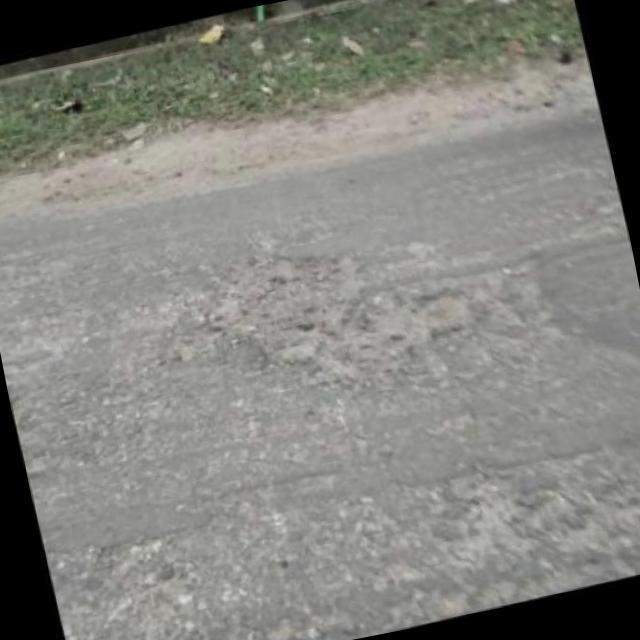Pothole: (211, 262, 462, 375)
